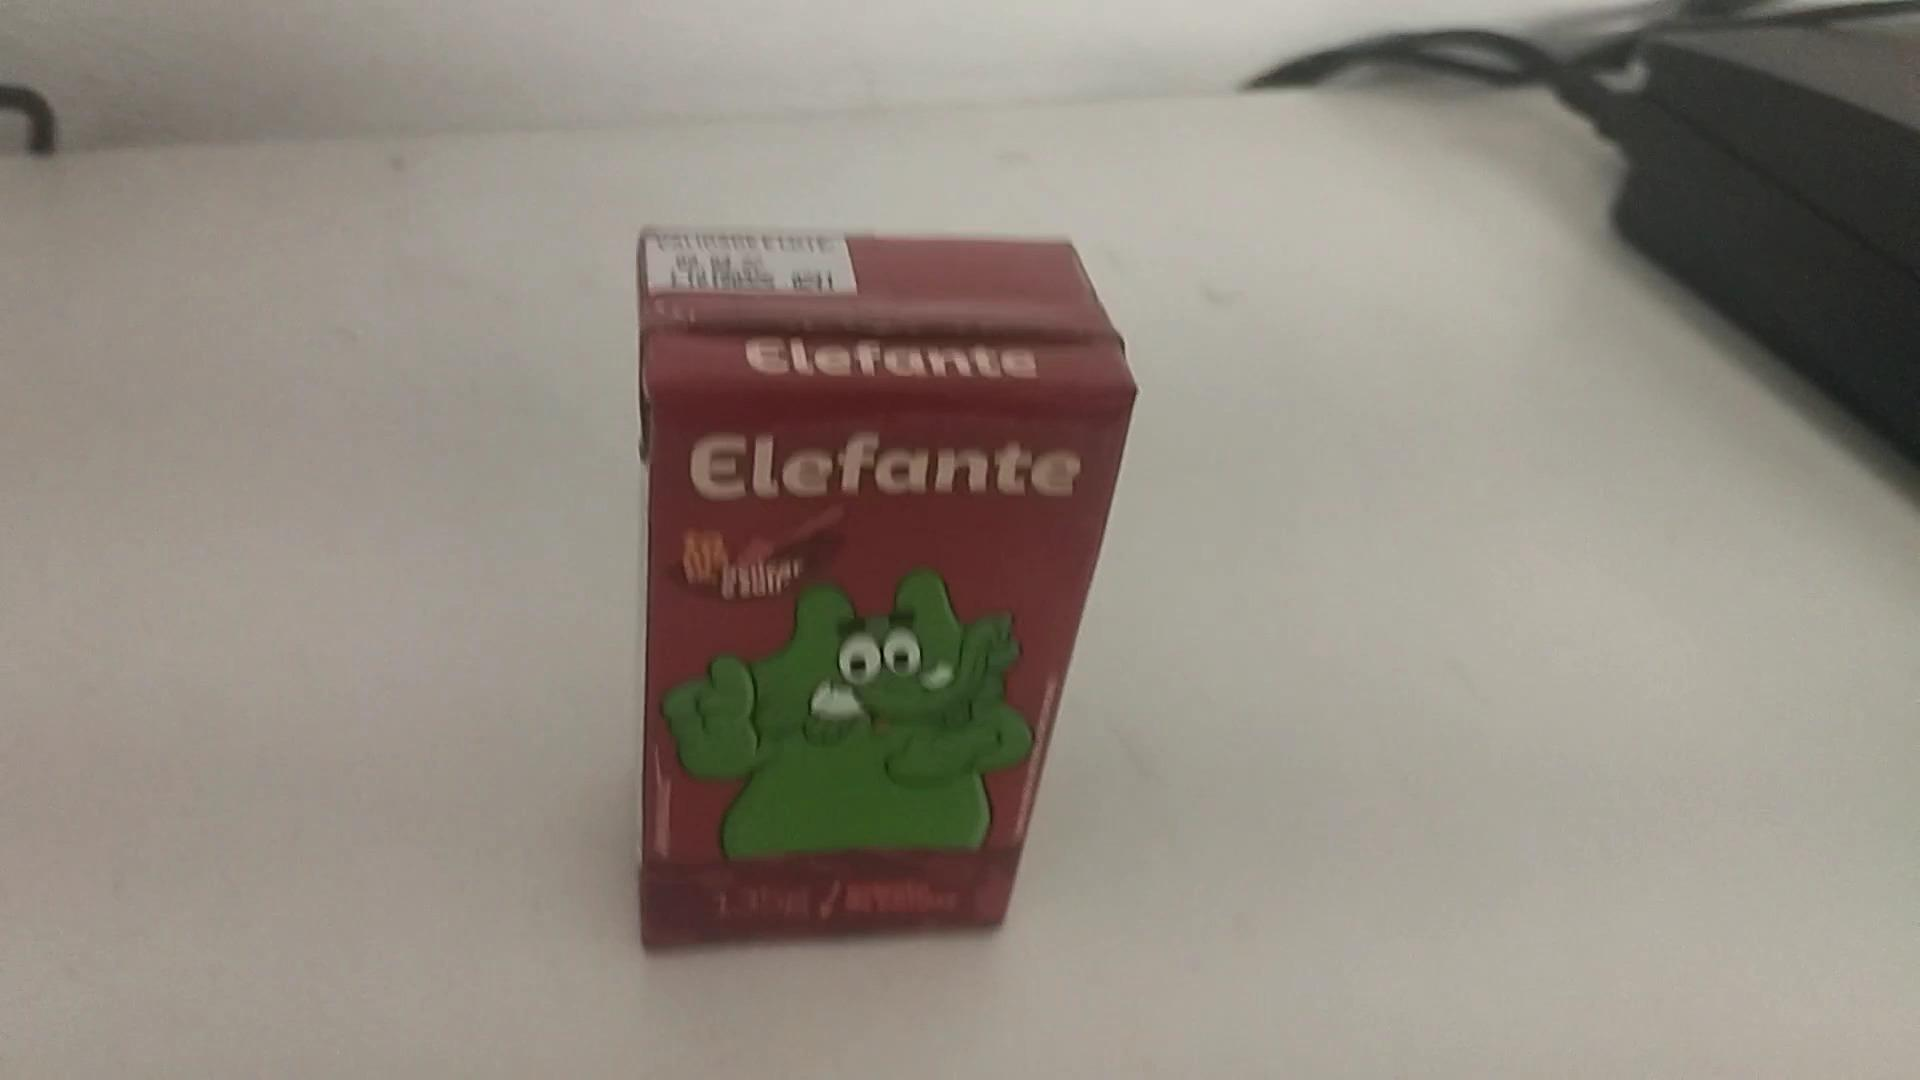tomate: (618, 219, 1153, 952)
